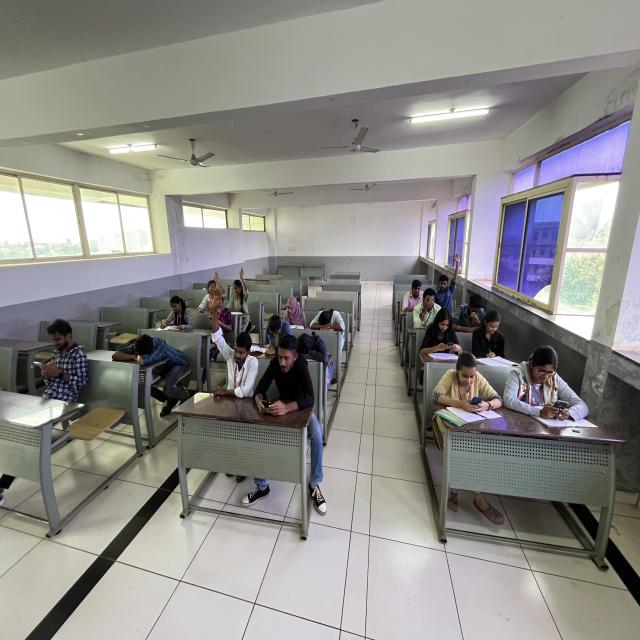Hand Rising: (208, 286, 256, 397), (228, 266, 255, 332), (437, 252, 460, 310)
Sleeping: (114, 330, 194, 416), (290, 328, 343, 381), (304, 305, 351, 340)
Using Phone: (503, 343, 594, 431), (26, 316, 96, 411), (432, 351, 508, 427), (419, 307, 463, 359)
Writing: (470, 308, 509, 362), (258, 312, 293, 355)
